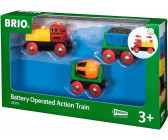brio: (21, 22, 80, 63)
